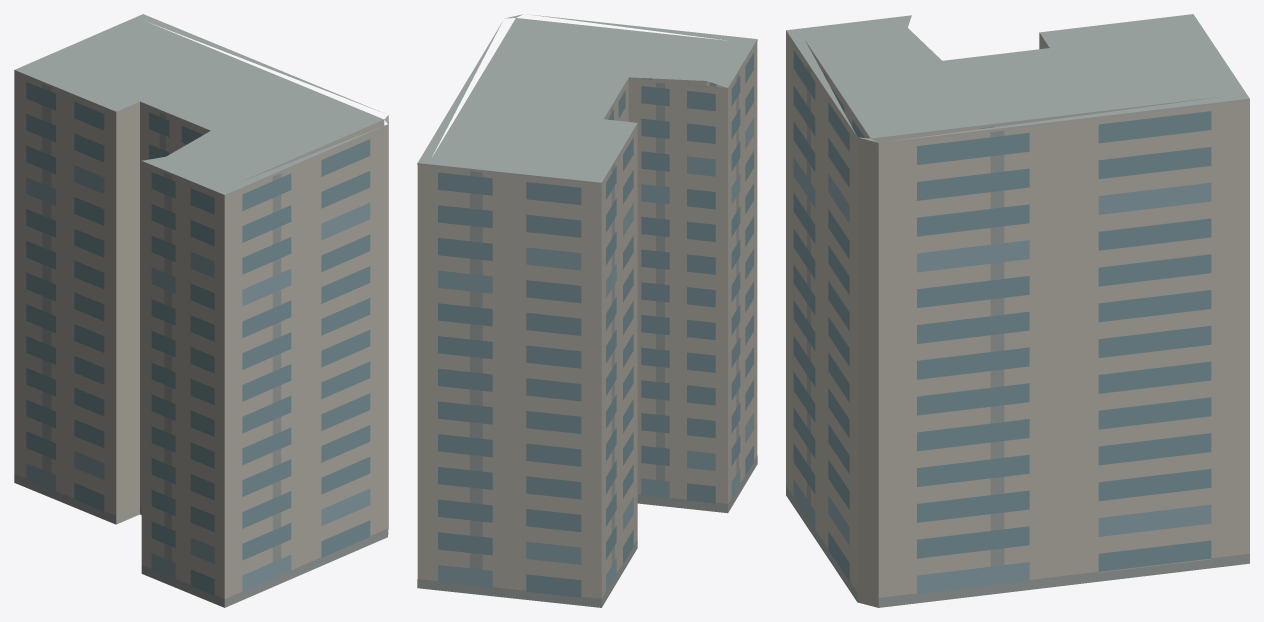
The model's file is residential-5a0d9d2a-12a8-47df-93b9-82ffee6d8205.glb.
The picture shows the model from 3 angles, left to right: view 1: azimuth 30°, elevation 25°; view 2: azimuth 150°, elevation 25°; view 3: azimuth 270°, elevation 25°; orthographic projection. The views are drawn at different scales.
Visible parts, largest first — view 1: residential-5a0d9d2a-12a8-47df-93b9-82ffee6d8205.tmp; view 2: residential-5a0d9d2a-12a8-47df-93b9-82ffee6d8205.tmp; view 3: residential-5a0d9d2a-12a8-47df-93b9-82ffee6d8205.tmp.
Part boxes in pixels (box(x1,y1,x2,y2)): residential-5a0d9d2a-12a8-47df-93b9-82ffee6d8205.tmp: box(14, 14, 388, 607); residential-5a0d9d2a-12a8-47df-93b9-82ffee6d8205.tmp: box(417, 14, 757, 607); residential-5a0d9d2a-12a8-47df-93b9-82ffee6d8205.tmp: box(786, 14, 1249, 607).
Size of the model in its own units: 25.56 by 43 by 38.87.
